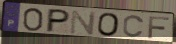C: (122, 14, 146, 39)
F: (147, 15, 171, 40)
N: (69, 10, 98, 36)
O: (97, 12, 121, 38), (22, 7, 45, 32)
P: (45, 8, 72, 33)
